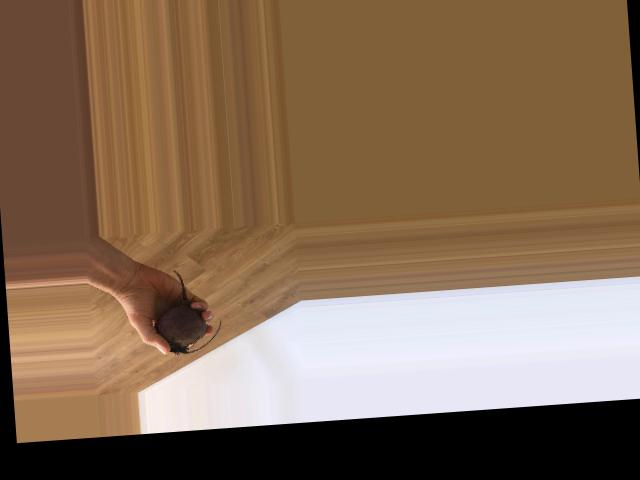beet: (151, 267, 224, 356)
